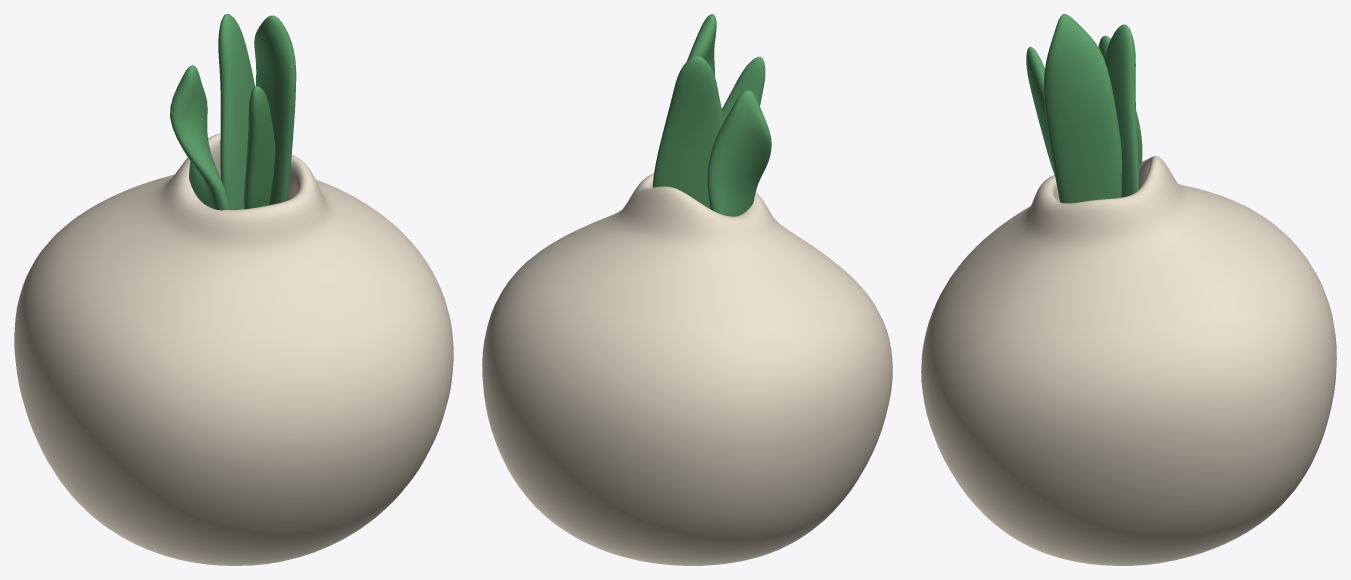
File: onion.glb
The picture shows the model from 3 angles, left to right: view 1: azimuth 30°, elevation 25°; view 2: azimuth 150°, elevation 25°; view 3: azimuth 270°, elevation 25°; orthographic projection. The views are drawn at different scales.
Parts seen in each view (by area): view 1: oinion, leaves; view 2: oinion, leaves; view 3: oinion, leaves.
Part boxes in pixels (x1=…): oinion: x1=14, y1=133, x2=453, y2=565; leaves: x1=170, y1=14, x2=296, y2=210; oinion: x1=482, y1=173, x2=892, y2=565; leaves: x1=652, y1=14, x2=771, y2=216; oinion: x1=921, y1=156, x2=1336, y2=565; leaves: x1=1026, y1=14, x2=1142, y2=203.
Bounding box in the file's own units: 0.5951 × 0.825 × 0.5879.
